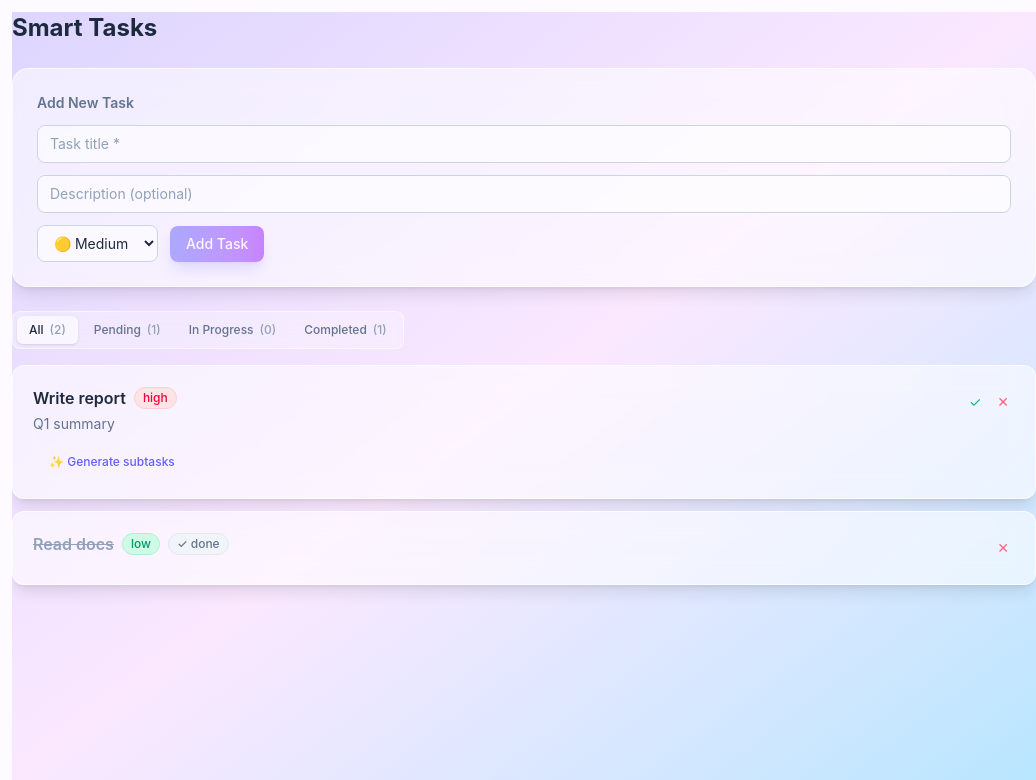
it: Tasks page — tab filtering › filters to show only pending tasks on pending tab
Expected: the heading "Write report" is shown, top-left (33, 386), bottom-right (126, 410)
Click the button "pending(1)" at x=127, y=330, box top-left (82, 316), bottom-right (173, 344)
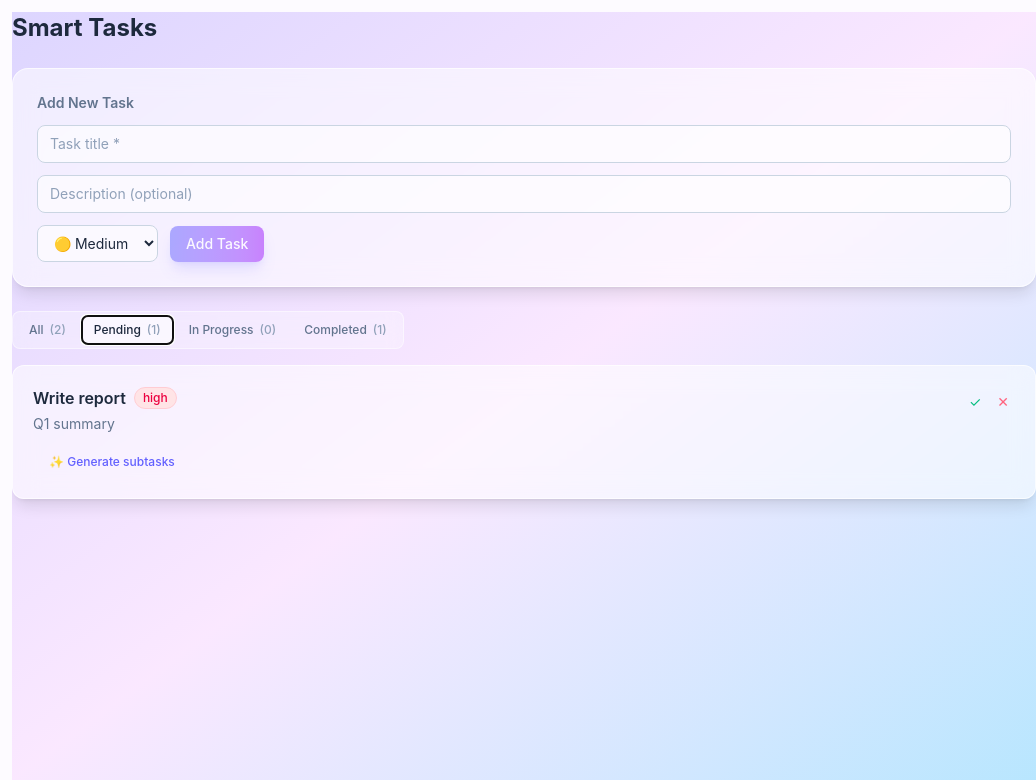
Expected: the heading "Write report" is shown, top-left (33, 386), bottom-right (126, 410)
Expected: the heading "Read docs" is gone
